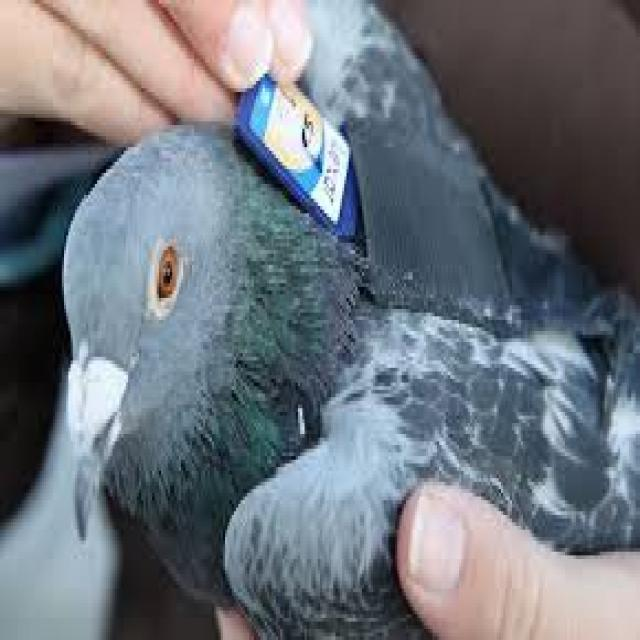Pigeon: (46, 114, 640, 633)
